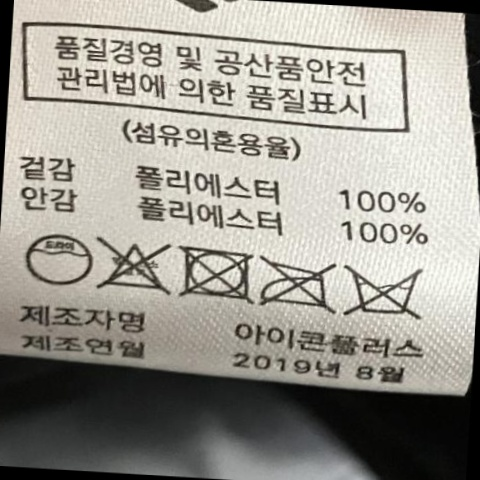DN_bleach: (102, 238, 170, 299)
DN_iron: (256, 256, 337, 314)
DN_tumble_dry: (179, 243, 255, 304)
DN_wash: (342, 258, 428, 323)
dry_clean: (24, 230, 94, 293)
